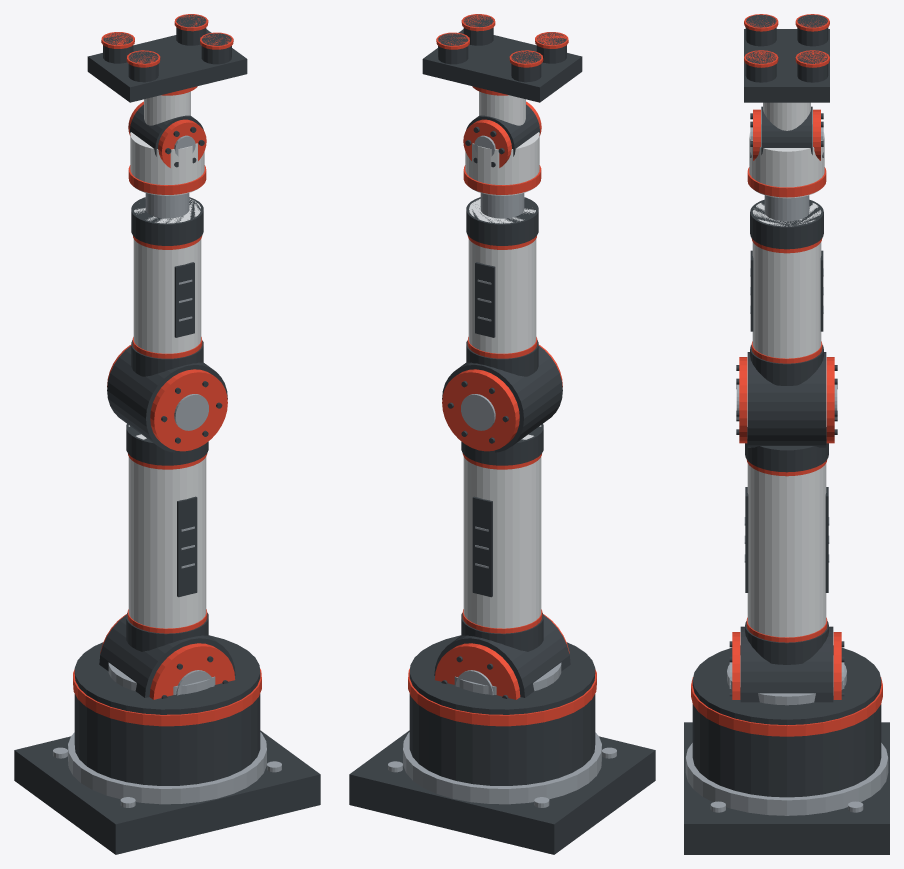
File: RobotArm_6DOF.glb
3 views of the same model, side by side, from view 1: azimuth 30°, elevation 25°; view 2: azimuth 150°, elevation 25°; view 3: azimuth 270°, elevation 25° (orthographic).
Parts seen in each view (by area): view 1: BaseShell, MountPlate, LowerLink, UpperLink, GripperPlateShell, BaseFoot, JointRedCover61, JointDrum52, JointDrum35, SuctionCup (×4), WristRollShell, JointRedCover44 (+14 smaller); view 2: BaseShell, MountPlate, LowerLink, UpperLink, GripperPlateShell, BaseFoot, JointRedCover53, JointDrum52, JointDrum35, SuctionCup (×4), WristRollShell, JointRedCover36 (+14 smaller); view 3: BaseShell, LowerLink, MountPlate, UpperLink, JointDrum52, BaseFoot, JointDrum35, GripperPlateShell, SuctionCup (×4), WristRollShell, BaseTopRing, LinkEndCollar25 (+18 smaller).
Boxes of the visible parts, bbox=[...] form: BaseShell: bbox=[74, 635, 260, 785]; MountPlate: bbox=[14, 730, 320, 854]; LowerLink: bbox=[128, 425, 206, 628]; UpperLink: bbox=[133, 198, 201, 353]; GripperPlateShell: bbox=[87, 29, 247, 102]; BaseFoot: bbox=[68, 732, 266, 804]; JointRedCover61: bbox=[150, 369, 227, 451]; JointDrum52: bbox=[107, 346, 227, 452]; JointDrum35: bbox=[99, 615, 235, 697]; SuctionCup (×4): bbox=[103, 14, 231, 82]; WristRollShell: bbox=[130, 132, 204, 195]; JointRedCover44: bbox=[149, 643, 235, 699]; BaseShell: bbox=[409, 635, 595, 785]; MountPlate: bbox=[349, 730, 655, 854]; LowerLink: bbox=[463, 425, 541, 628]; UpperLink: bbox=[468, 199, 536, 353]; GripperPlateShell: bbox=[422, 29, 582, 102]; BaseFoot: bbox=[403, 732, 601, 804]; JointRedCover53: bbox=[442, 369, 519, 451]; JointDrum52: bbox=[442, 346, 562, 452]; JointDrum35: bbox=[434, 615, 570, 697]; SuctionCup (×4): bbox=[438, 14, 566, 82]; WristRollShell: bbox=[465, 132, 539, 195]; JointRedCover36: bbox=[434, 643, 520, 699]; BaseShell: bbox=[692, 645, 881, 797]; LowerLink: bbox=[747, 463, 826, 637]; MountPlate: bbox=[684, 722, 889, 854]; UpperLink: bbox=[752, 203, 821, 358]; JointDrum52: bbox=[747, 352, 826, 447]; BaseFoot: bbox=[685, 743, 888, 815]; JointDrum35: bbox=[740, 626, 833, 702]; GripperPlateShell: bbox=[744, 29, 829, 102]; SuctionCup (×4): bbox=[745, 14, 828, 82]; WristRollShell: bbox=[749, 124, 824, 198]; BaseTopRing: bbox=[691, 677, 882, 736]; LinkEndCollar25: bbox=[750, 199, 823, 249].
Size of the model in its own units: 1.4 by 4.92 by 1.2.
